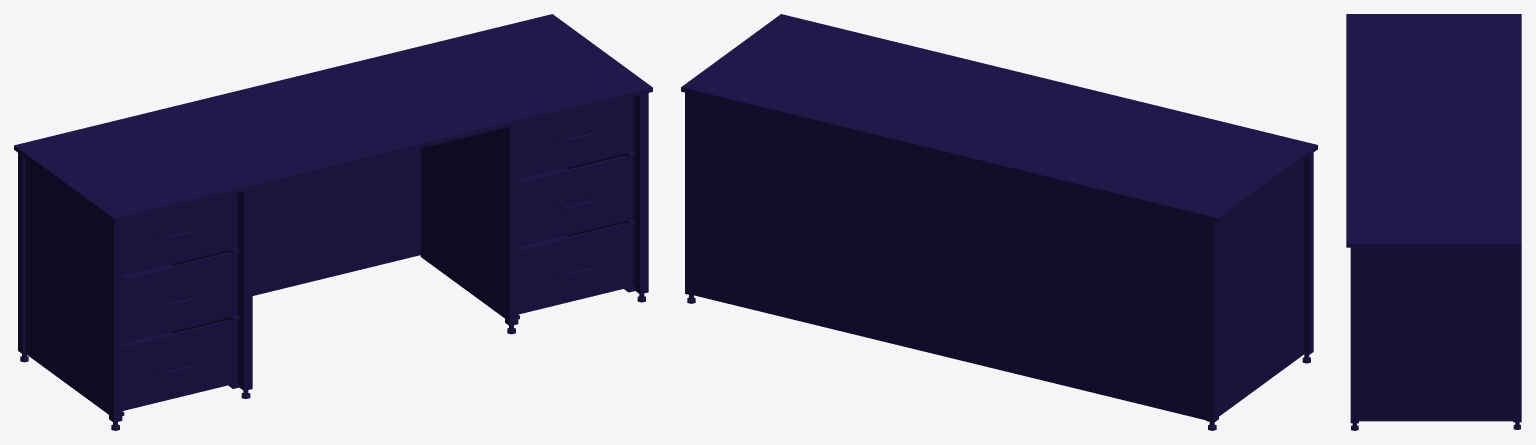
The model's file is SM_Desk.fbx.
3 views of the same model, side by side, from view 1: azimuth 30°, elevation 25°; view 2: azimuth 150°, elevation 25°; view 3: azimuth 270°, elevation 25° (orthographic). The views are drawn at different scales.
Parts seen in each view (by area): view 1: SM_Desk, SM_Desk_Drawer_03, SM_Desk_Drawer_02, SM_Desk_Drawer_05, SM_Desk_Drawer_06, SM_Desk_Drawer_04, SM_Desk_Drawer_01; view 2: SM_Desk; view 3: SM_Desk.
Boxes of the visible parts, x1,y1,x2,y2 form: SM_Desk: (14,14,652,430); SM_Desk_Drawer_03: (122,318,237,410); SM_Desk_Drawer_02: (122,250,237,343); SM_Desk_Drawer_05: (518,154,633,246); SM_Desk_Drawer_06: (518,221,633,314); SM_Desk_Drawer_04: (518,97,633,179); SM_Desk_Drawer_01: (122,193,237,275); SM_Desk: (681,14,1317,430); SM_Desk: (1346,14,1521,430).
Bounding box in the file's own units: 254 × 97 × 82.
